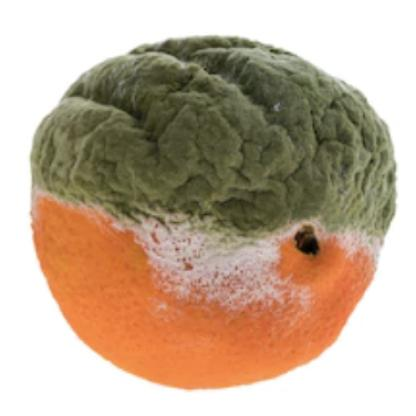rotten: (29, 36, 399, 397)
